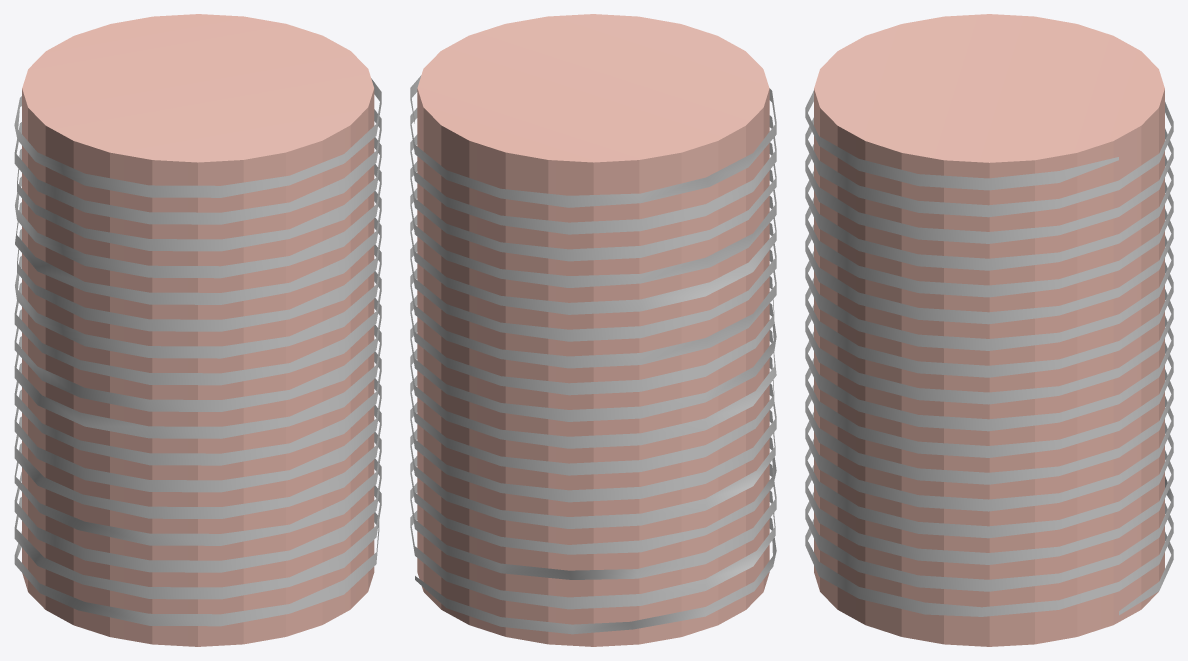
Rendered from Thread.fbx.
3 views of the same model, side by side, from view 1: azimuth 30°, elevation 25°; view 2: azimuth 150°, elevation 25°; view 3: azimuth 270°, elevation 25° (orthographic).
Visible parts, largest first — view 1: Rope, Base; view 2: Rope, Base; view 3: Rope, Base.
Part boxes in pixels (x1=…): Rope: x1=22, y1=14, x2=374, y2=646; Base: x1=14, y1=78, x2=381, y2=626; Rope: x1=417, y1=14, x2=769, y2=646; Base: x1=410, y1=75, x2=776, y2=634; Rope: x1=814, y1=14, x2=1164, y2=646; Base: x1=805, y1=90, x2=1173, y2=616.
Bounding box in the file's own units: 0.096 × 0.1387 × 0.0957.
Materials: 1 (1 with a texture image).
